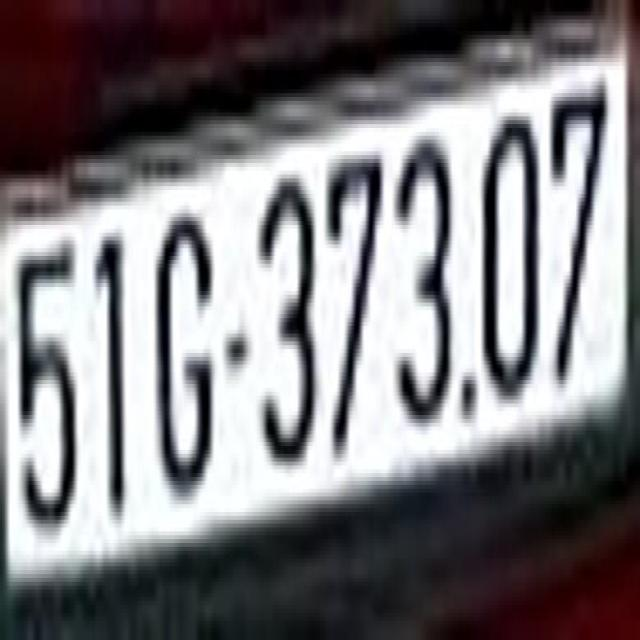0: (482, 105, 540, 403)
1: (92, 205, 130, 547)
3: (392, 128, 452, 434), (258, 182, 318, 481)
5: (15, 237, 76, 543)
7: (548, 82, 611, 400), (325, 143, 384, 466)
G: (151, 206, 214, 508)
